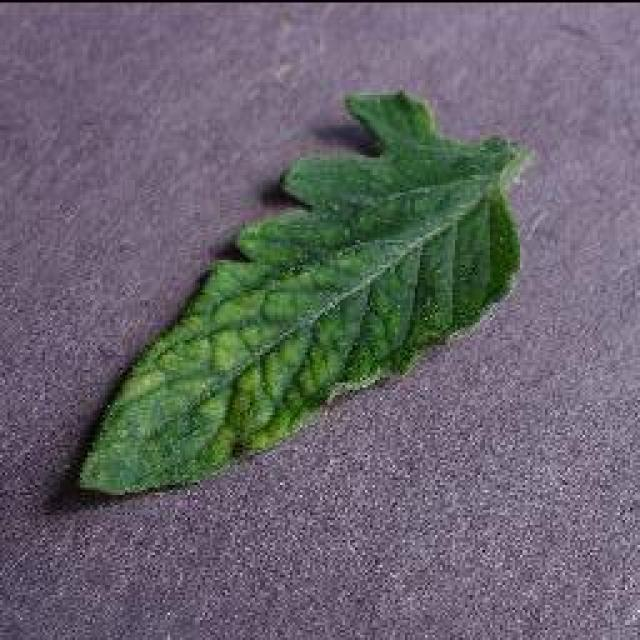Tomato___Tomato_mosaic_virus: (82, 90, 525, 492)
